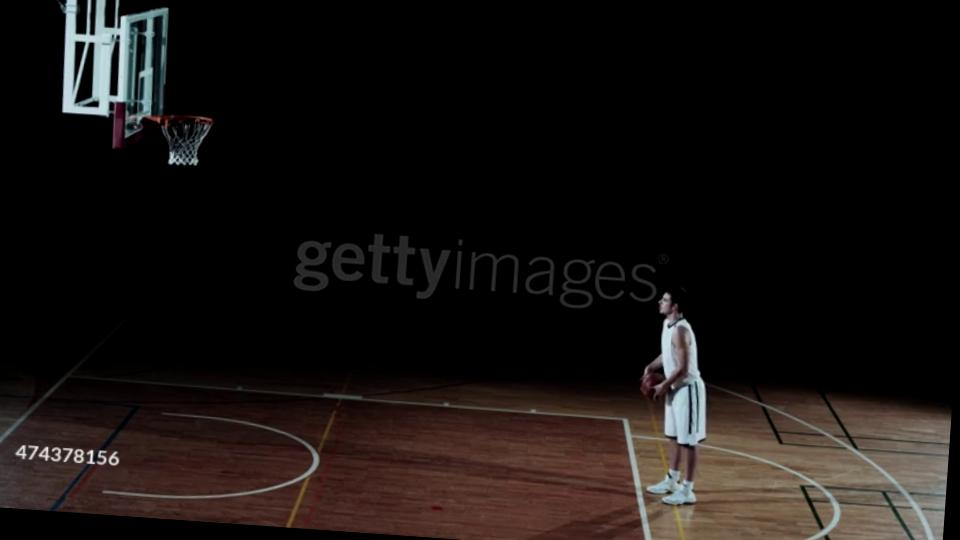hoop: (153, 112, 215, 132)
